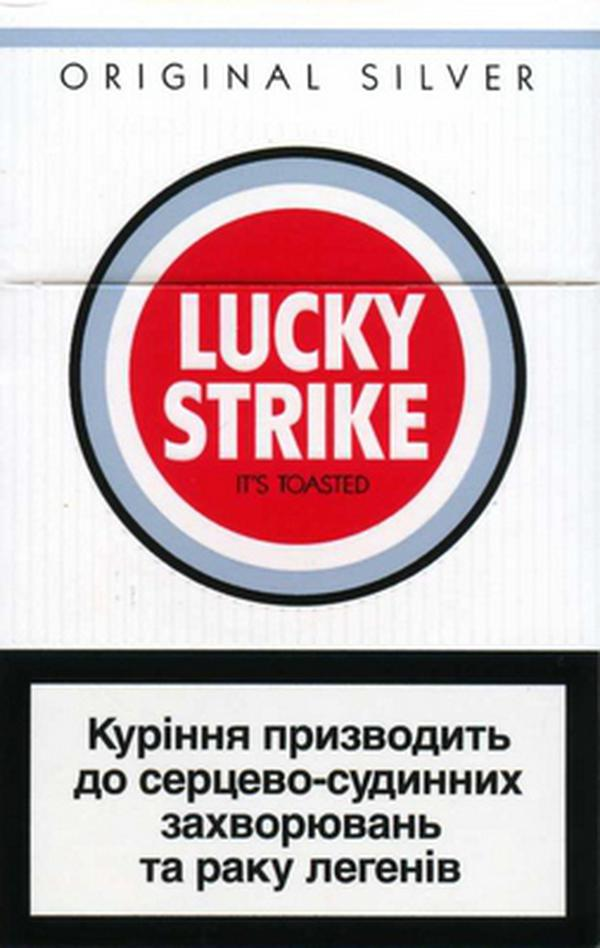lucky_strike_red: (1, 4, 600, 948)
